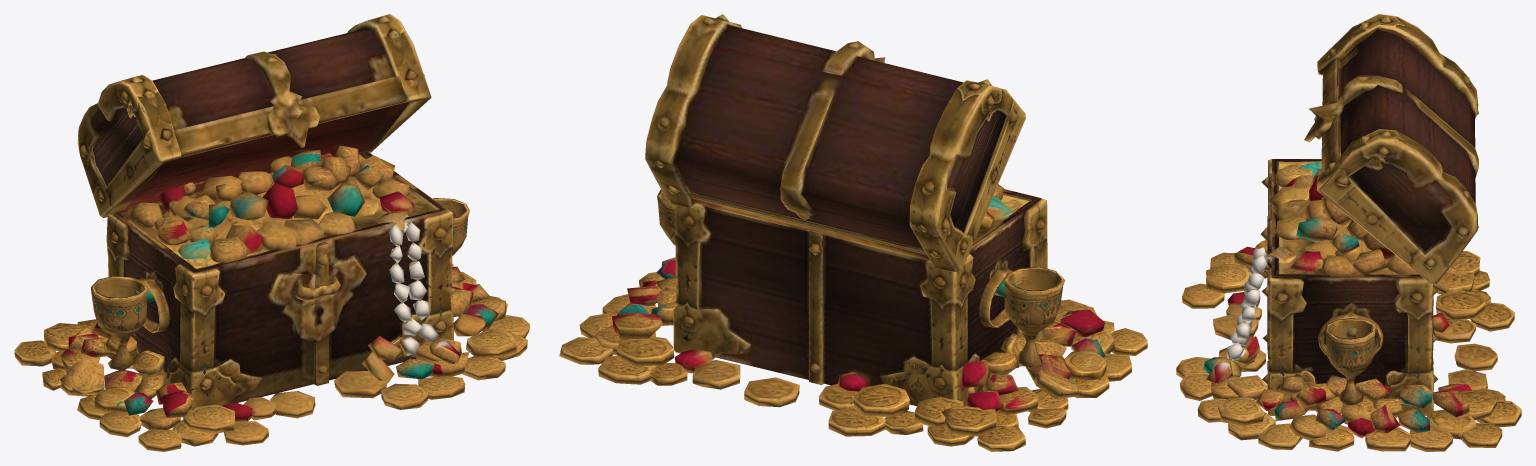
Rendered from treasure-hoard.glb.
The picture shows the model from 3 angles, left to right: view 1: azimuth 30°, elevation 25°; view 2: azimuth 150°, elevation 25°; view 3: azimuth 270°, elevation 25°; orthographic projection. The views are drawn at different scales.
Parts seen in each view (by area): view 1: treasure-hoard-v2_LOD0; view 2: treasure-hoard-v2_LOD0; view 3: treasure-hoard-v2_LOD0.
Part boxes in pixels (x1,y1,x2,y2): treasure-hoard-v2_LOD0: (14, 14, 530, 451); treasure-hoard-v2_LOD0: (559, 14, 1147, 451); treasure-hoard-v2_LOD0: (1176, 14, 1521, 451).
Size of what is drawn, in the model's own units: 1 by 0.6778 by 0.7414.
Materials: 1 (1 with a texture image).
